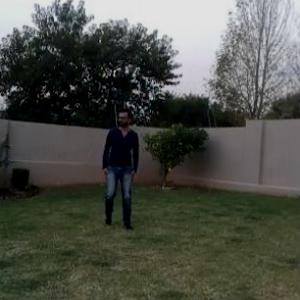follow: (97, 101, 143, 234)
